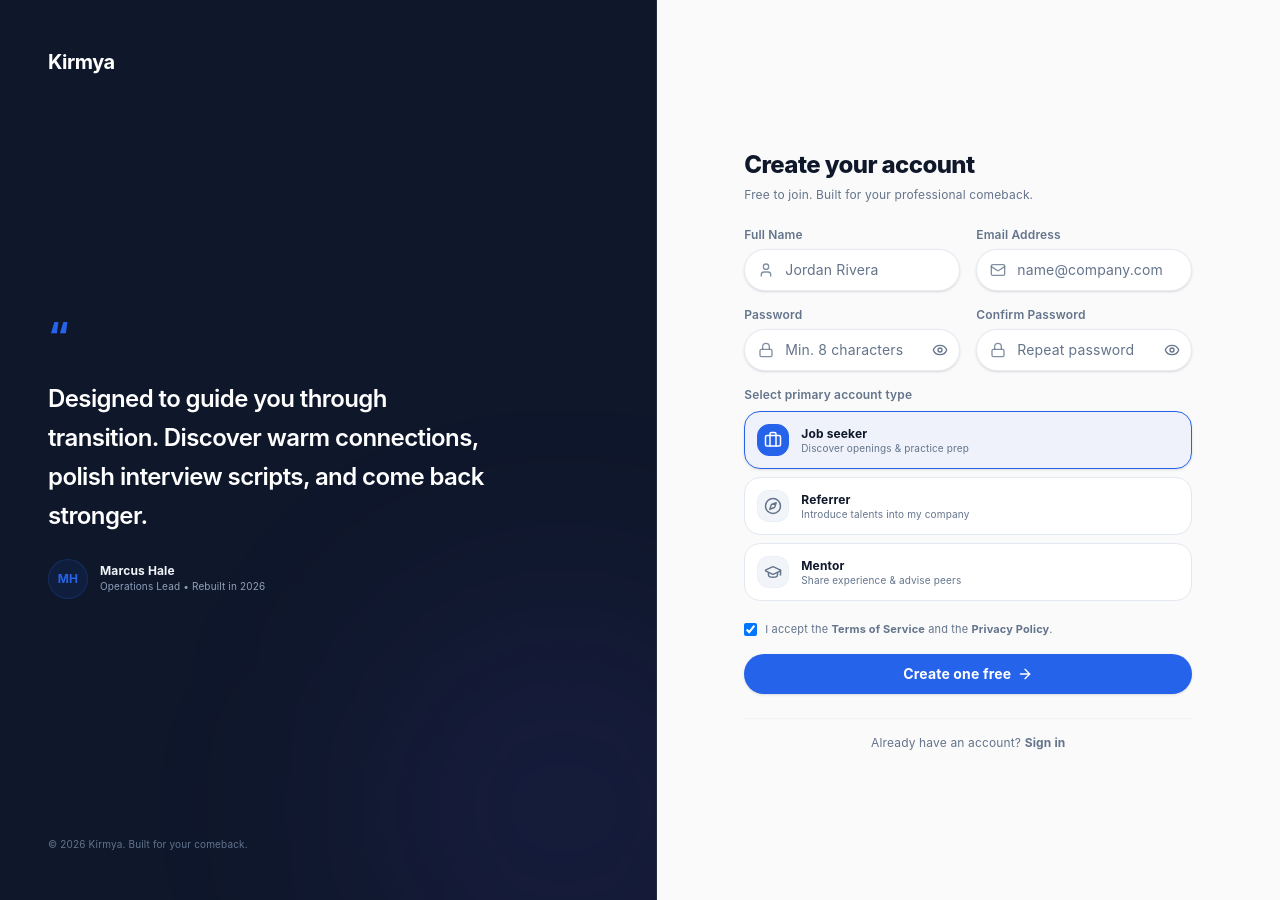
Scenario: SignUpPage › renders sign-up fields, password strength indicator, and terms checkbox
Expected: the field with placeholder "Jordan Rivera" is shown, [744, 249, 960, 291]
Expected: the field with placeholder "name@company.com" is shown, [976, 249, 1192, 291]
Note: Fill in a password to trigger the strength checklist
Type "Short" into the password field with placeholder "Min. 8 characters" at (852, 350), box [744, 329, 960, 371]
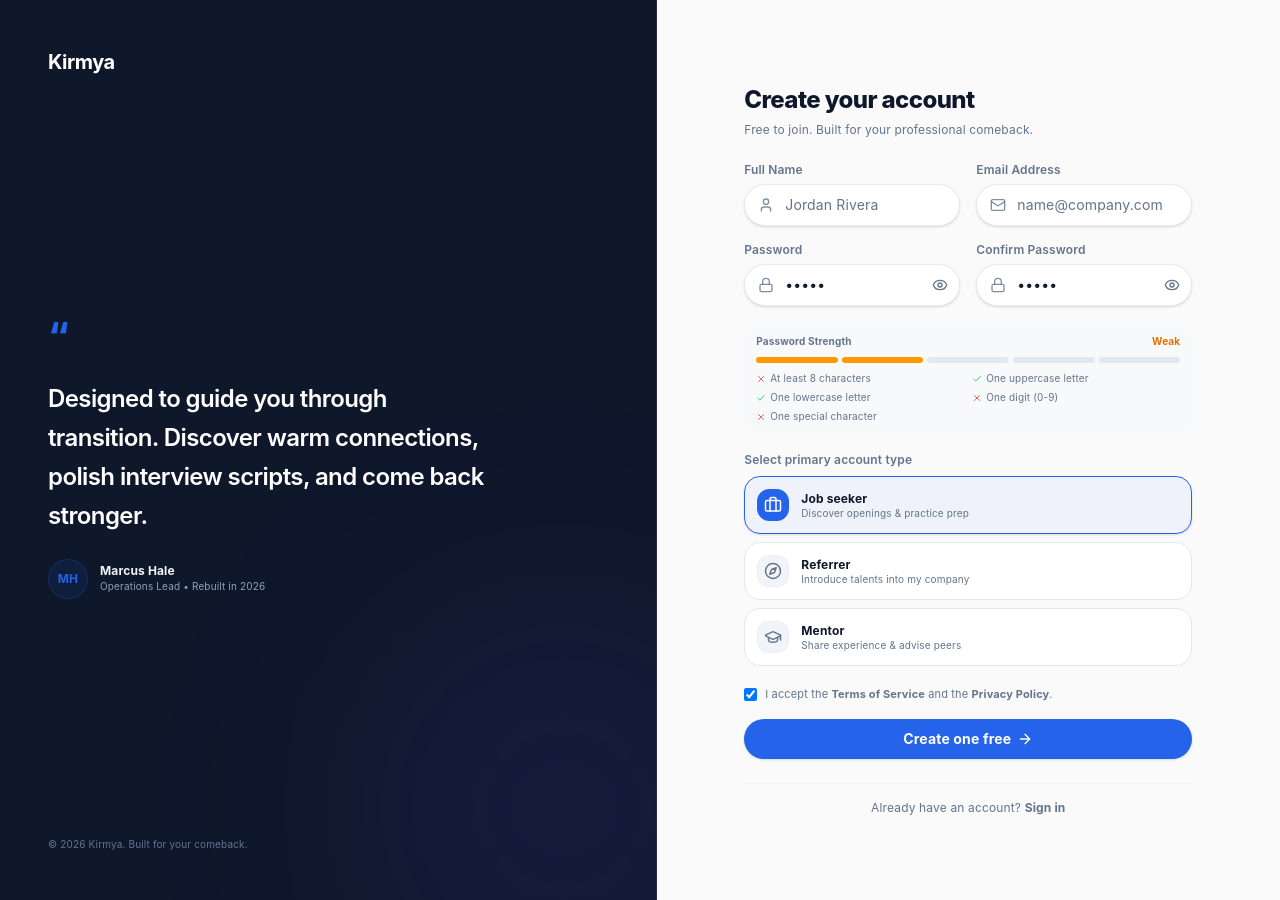
Expected: the text "Password Strength" is shown, [756, 334, 852, 349]
Expected: the text "At least 8 characters" is shown, [756, 372, 871, 384]
